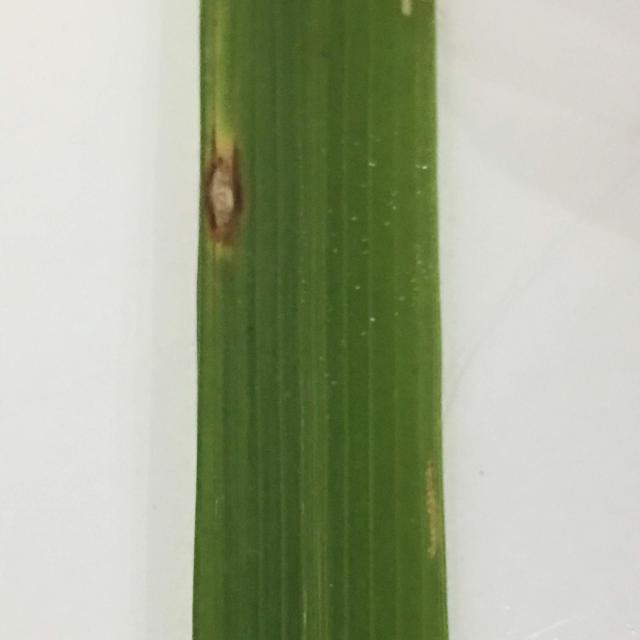Leaf blast: (191, 3, 448, 640)
